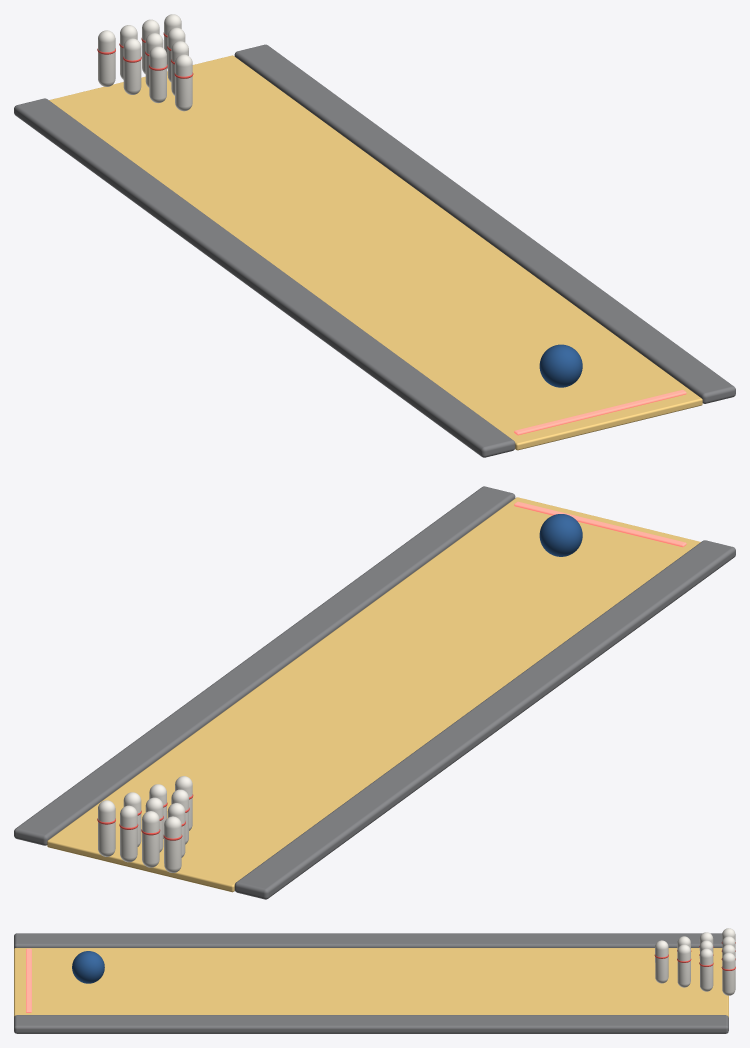
File: retro_arcade__bowling_lane.glb
3 renders of one model, top to bottom at view 1: azimuth 30°, elevation 25°; view 2: azimuth 150°, elevation 25°; view 3: azimuth 270°, elevation 25°, orthographic. The views are drawn at different scales.
Parts seen in each view (by area): view 1: Flat_001, Flat_003, Flat_002, Part_036, Glow, Part_015, Part_006, Part_024, Part_009; view 2: Flat_001, Flat_003, Flat_002, Part_036, Glow, Part_024, Part_030, Part_033, Part_027; view 3: Flat_001, Flat_002, Flat_003, Part_036, Part_021, Part_033, Part_006, Part_012, Glow.
Boxes of the visible parts, x1,y1,x2,y2 form: Flat_001: (49, 55, 702, 450); Flat_003: (14, 98, 515, 457); Flat_002: (234, 44, 735, 403); Part_036: (539, 344, 582, 387); Glow: (514, 389, 686, 435); Part_015: (123, 38, 141, 94); Part_006: (175, 54, 192, 111); Part_024: (98, 30, 115, 86); Part_009: (149, 46, 166, 103); Flat_001: (47, 497, 700, 892); Flat_003: (234, 540, 735, 899); Flat_002: (14, 486, 515, 845); Part_036: (539, 514, 582, 556); Glow: (514, 501, 686, 547); Part_024: (164, 816, 181, 872); Part_030: (120, 805, 137, 862); Part_033: (98, 800, 115, 856); Part_027: (142, 811, 159, 867); Flat_001: (14, 948, 728, 1017); Flat_002: (14, 1015, 728, 1033); Flat_003: (14, 933, 722, 948); Part_036: (72, 951, 104, 983); Part_021: (699, 948, 713, 991); Part_033: (722, 952, 735, 995); Part_006: (655, 940, 668, 983); Part_012: (677, 944, 690, 987); Glow: (26, 948, 31, 1012).
Size of the model in its own units: 1.5 by 0.345 by 4.85.
